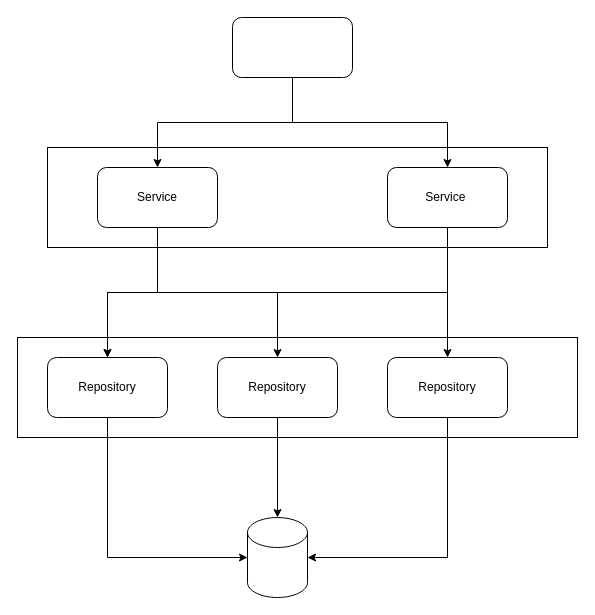
Some shapes in this 595 by 615 pixel diagram are drawn without their labels. The shapes that lost their labels are listed below. From the top down, each one's box as (x1, y1, x2, y2) in pixels, then its label:
(232, 16, 352, 78): Controller
(246, 516, 308, 598): Database
